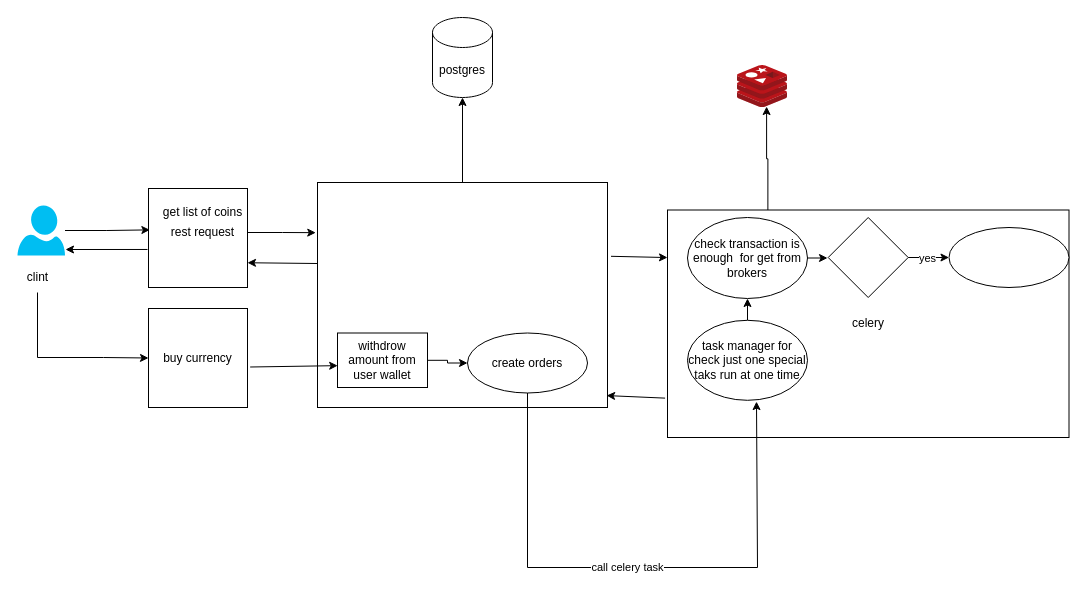
Image size: 1086x593. Some labels were removed from this diagram. Each missing label, with the box of its shape:
chart related user wallet: (948, 226, 1069, 288)
djagno server: (316, 182, 608, 408)
if <10$: (827, 216, 908, 298)
